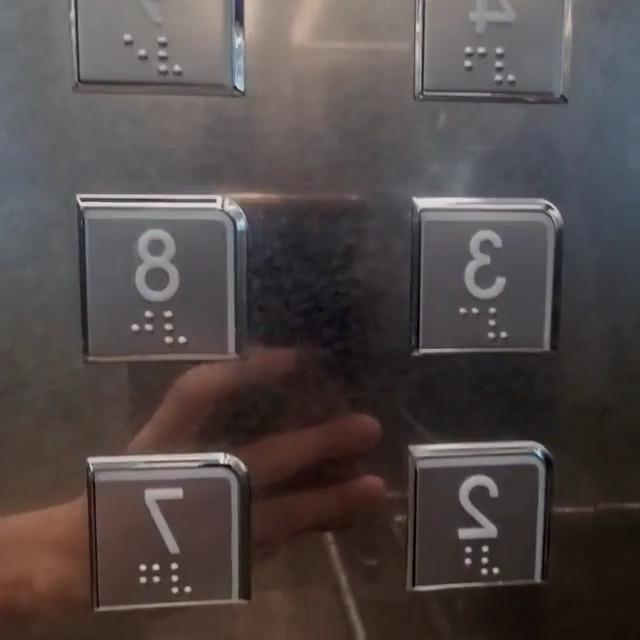button: (79, 194, 242, 376), (88, 451, 250, 618), (402, 195, 561, 358), (412, 436, 555, 602)
